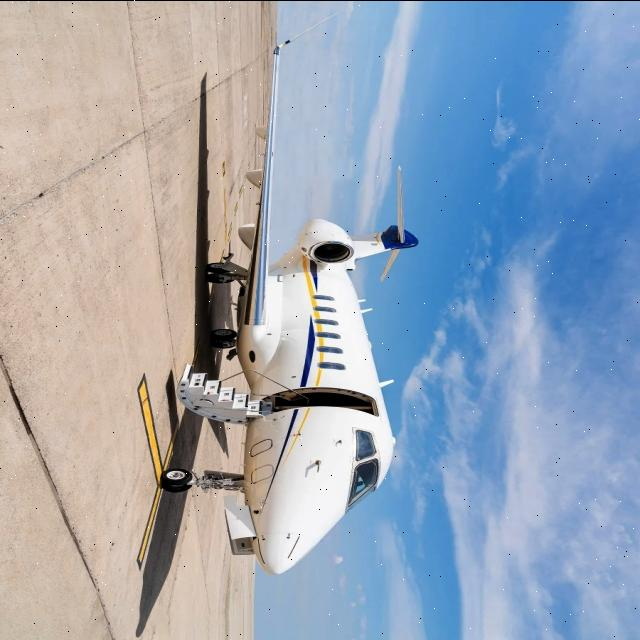jet: (88, 20, 522, 598)
